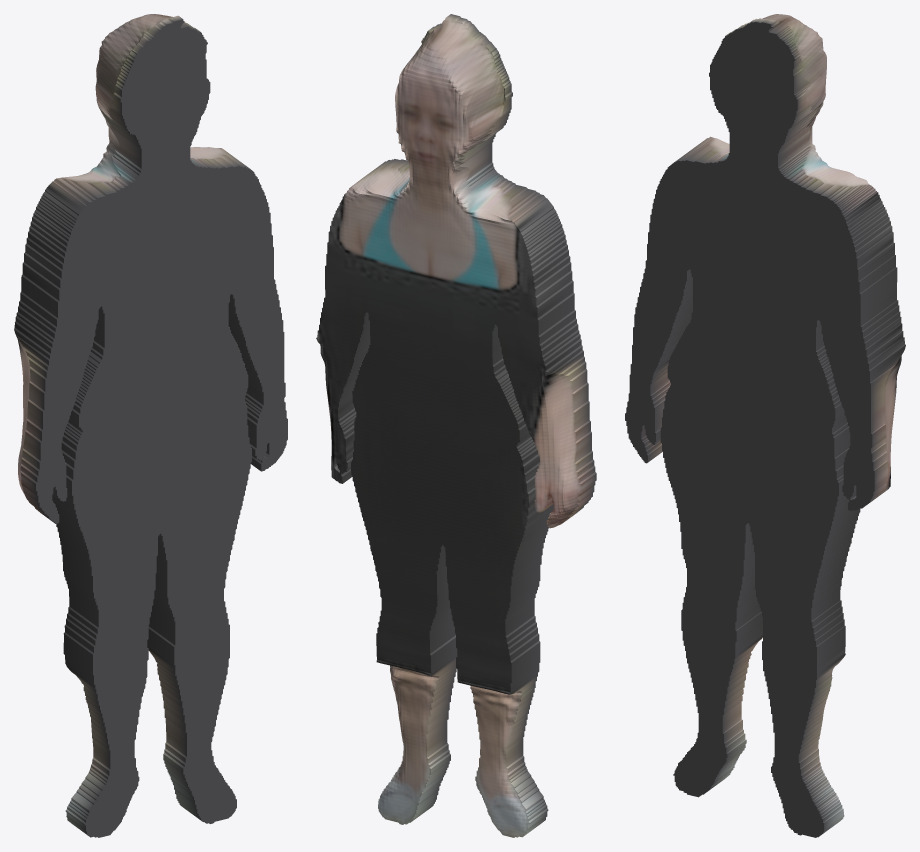
The model's file is avatar_111411.glb.
The picture shows the model from 3 angles, left to right: view 1: azimuth 30°, elevation 25°; view 2: azimuth 150°, elevation 25°; view 3: azimuth 330°, elevation 25°; orthographic projection.
Visible parts, largest first — view 1: world; view 2: world; view 3: world.
Boxes of the visible parts, bbox=[...] form: world: bbox=[14, 14, 287, 837]; world: bbox=[316, 14, 596, 837]; world: bbox=[625, 14, 905, 837].
Size of the model in its own units: 39.06 by 120 by 10.61.
